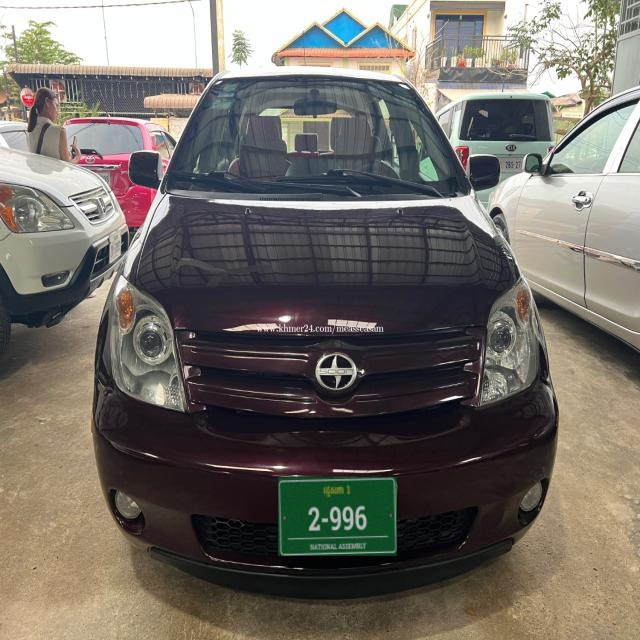Plate Number: (279, 478, 397, 556)
